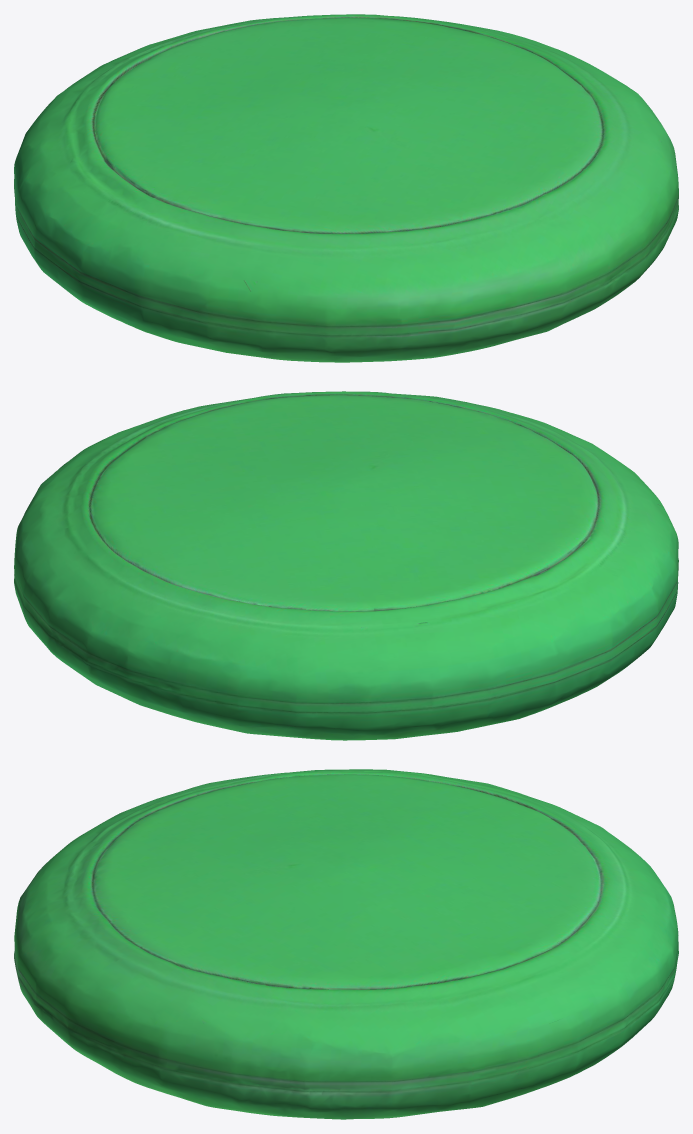
3 renders of one model, top to bottom at view 1: azimuth 30°, elevation 25°; view 2: azimuth 150°, elevation 25°; view 3: azimuth 270°, elevation 25°, orthographic.
Parts seen in each view (by area): view 1: Mesh1.0; view 2: Mesh1.0; view 3: Mesh1.0.
Boxes of the visible parts, x1=… form: Mesh1.0: x1=14, y1=14, x2=678, y2=362; Mesh1.0: x1=14, y1=391, x2=678, y2=740; Mesh1.0: x1=14, y1=769, x2=678, y2=1119.
Bounding box in the file's own units: 200 × 53.07 × 199.
Materials: 1 (1 with a texture image).
